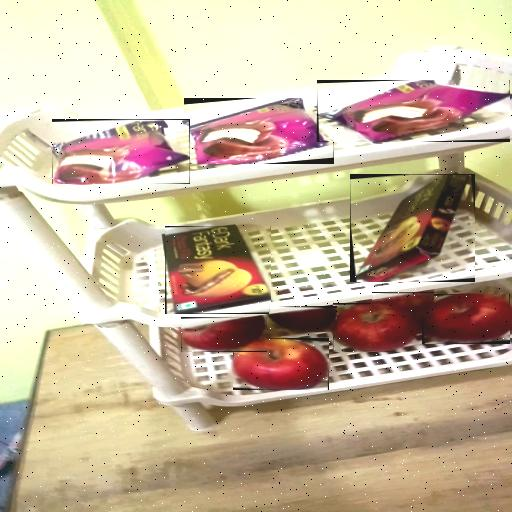Apple: (233, 338, 329, 390), (422, 294, 510, 344), (334, 303, 422, 352), (181, 317, 267, 352), (269, 306, 337, 332), (372, 292, 434, 314)
Choco Fills: (350, 174, 475, 282), (165, 226, 271, 314)
Choco Pie: (317, 80, 510, 142), (184, 98, 334, 164), (52, 119, 190, 184)
